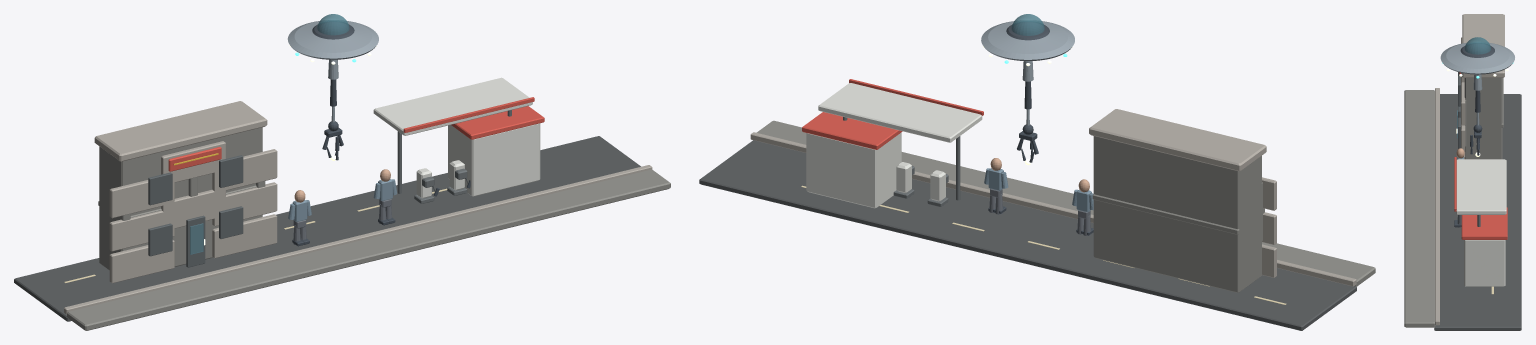
Rendered from city.glb.
3 renders of one model, left to right at view 1: azimuth 30°, elevation 25°; view 2: azimuth 150°, elevation 25°; view 3: azimuth 270°, elevation 25°, orthographic. The views are drawn at different scales.
Visible parts, largest first — view 1: STREET / asphalt platform, STREET / front sidewalk, BUILDING / structural shell, BUILDING / roof slab, GAS_STATION / shop block, GAS_STATION / canopy, STREET / curb, UFO / main titanium saucer, BUILDING / breakable facade panel 01, BUILDING / breakable facade panel 02, BUILDING / breakable facade panel 05, GAS_STATION / red shop roof (+14 smaller); view 2: STREET / asphalt platform, BUILDING / structural shell, GAS_STATION / shop block, BUILDING / roof slab, GAS_STATION / canopy, STREET / front sidewalk, UFO / main titanium saucer, STREET / curb, GAS_STATION / red shop roof, BUILDING / upper floor, UFO / upper dark shell, GAS_STATION / canopy fascia (+1 smaller); view 3: STREET / asphalt platform, STREET / front sidewalk, GAS_STATION / canopy, BUILDING / structural shell, GAS_STATION / shop block, UFO / main titanium saucer, BUILDING / roof slab, STREET / curb, GAS_STATION / red shop roof, UFO / upper dark shell, UFO / smoked-glass cockpit, BUILDING / breakable facade panel 07 (+5 smaller).
Part boxes in pixels (left/top/right/bottom): STREET / asphalt platform: left=14, top=136, right=640, bottom=321; STREET / front sidewalk: left=67, top=169, right=670, bottom=330; BUILDING / structural shell: left=99, top=127, right=262, bottom=270; BUILDING / roof slab: left=94, top=101, right=267, bottom=161; GAS_STATION / shop block: left=448, top=123, right=540, bottom=196; GAS_STATION / canopy: left=373, top=77, right=532, bottom=135; STREET / curb: left=64, top=165, right=652, bottom=314; UFO / main titanium saucer: left=287, top=20, right=378, bottom=59; BUILDING / breakable facade panel 01: left=109, top=240, right=174, bottom=283; BUILDING / breakable facade panel 02: left=212, top=214, right=277, bottom=258; BUILDING / breakable facade panel 05: left=161, top=189, right=225, bottom=228; GAS_STATION / red shop roof: left=451, top=106, right=544, bottom=139; STREET / asphalt platform: left=699, top=140, right=1356, bottom=330; BUILDING / structural shell: left=1093, top=136, right=1261, bottom=292; GAS_STATION / shop block: left=806, top=132, right=901, bottom=208; BUILDING / roof slab: left=1089, top=109, right=1266, bottom=171; GAS_STATION / canopy: left=818, top=83, right=982, bottom=142; STREET / front sidewalk: left=756, top=120, right=1375, bottom=286; UFO / main titanium saucer: left=981, top=21, right=1074, bottom=61; STREET / curb: left=750, top=132, right=1356, bottom=286; GAS_STATION / red shop roof: left=802, top=112, right=902, bottom=149; BUILDING / upper floor: left=1092, top=194, right=1246, bottom=234; UFO / upper dark shell: left=1006, top=22, right=1049, bottom=40; GAS_STATION / canopy fascia: left=849, top=79, right=983, bottom=115; STREET / asphalt platform: left=1434, top=94, right=1521, bottom=330; STREET / front sidewalk: left=1404, top=90, right=1435, bottom=327; GAS_STATION / canopy: left=1456, top=159, right=1506, bottom=214; BUILDING / structural shell: left=1464, top=78, right=1502, bottom=159; GAS_STATION / shop block: left=1464, top=240, right=1505, bottom=286; UFO / main titanium saucer: left=1440, top=42, right=1514, bottom=74; BUILDING / roof slab: left=1462, top=14, right=1504, bottom=77; STREET / curb: left=1435, top=88, right=1439, bottom=325; GAS_STATION / red shop roof: left=1461, top=207, right=1507, bottom=239; UFO / upper dark shell: left=1460, top=43, right=1494, bottom=57; UFO / smoked-glass cockpit: left=1464, top=37, right=1490, bottom=54; BUILDING / breakable facade panel 07: left=1461, top=82, right=1465, bottom=125.
Size of the model in its own units: 24 by 8.45 by 5.09.
